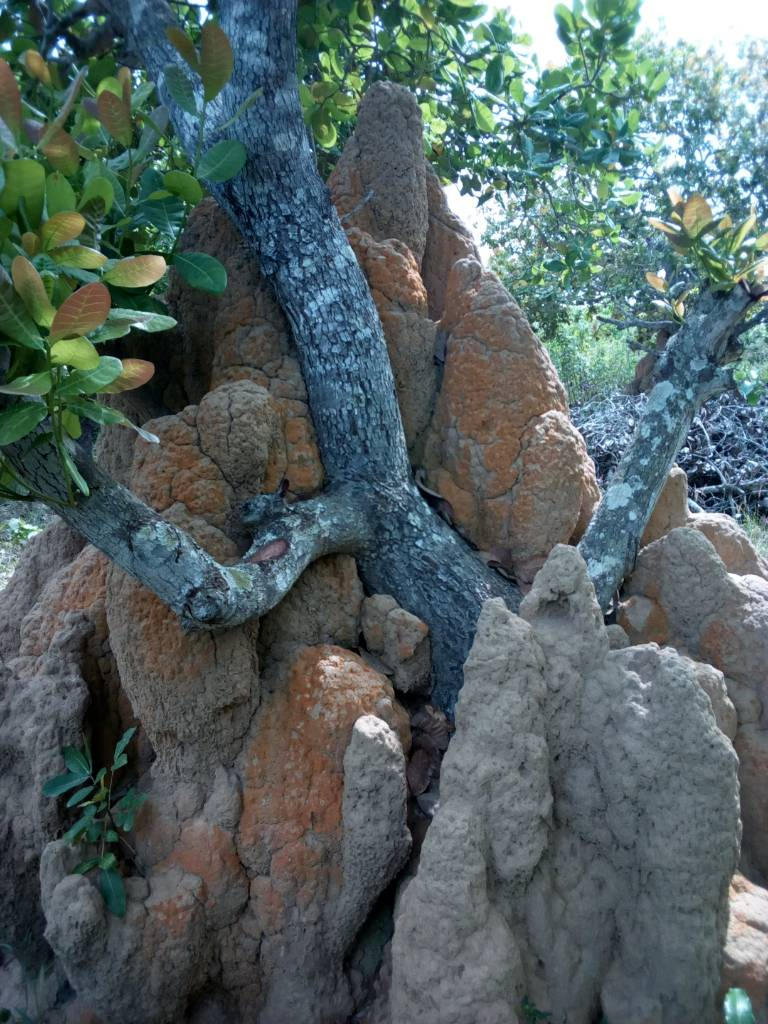Termites: (433, 578, 711, 1024), (111, 600, 388, 1013), (374, 77, 572, 521), (143, 313, 280, 500)
